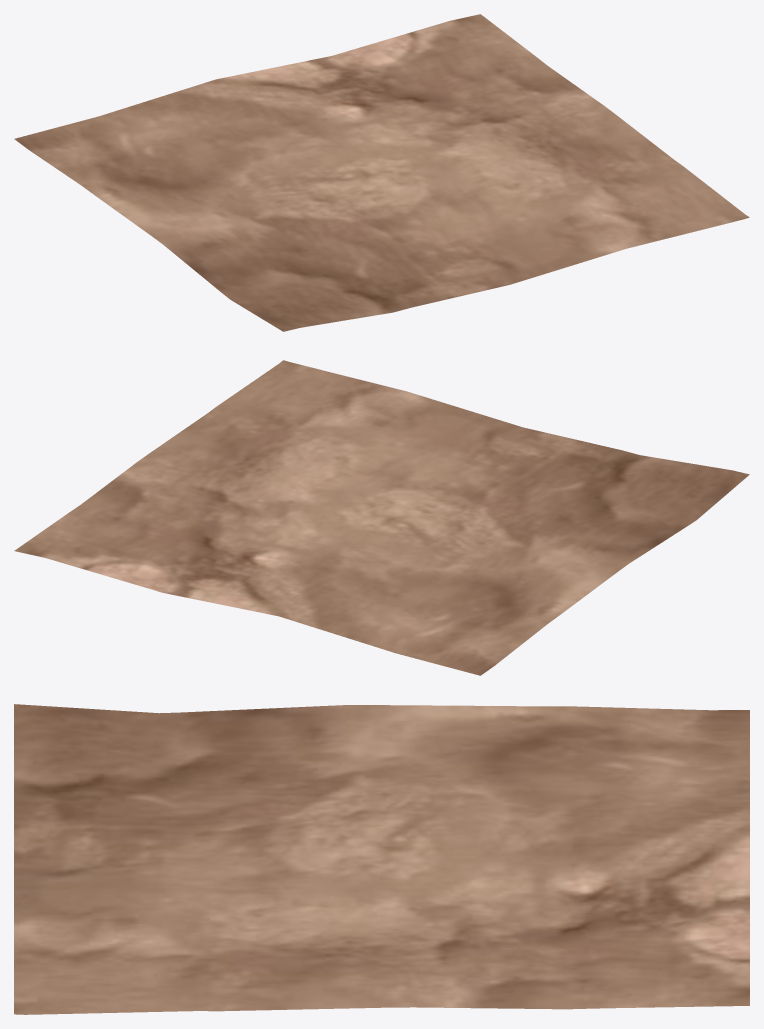
3 renders of one model, top to bottom at view 1: azimuth 30°, elevation 25°; view 2: azimuth 150°, elevation 25°; view 3: azimuth 270°, elevation 25°, orthographic. The views are drawn at different scales.
Size of the model in its own units: 128 by 4.14 by 128.
Materials: 1 (1 with a texture image).
